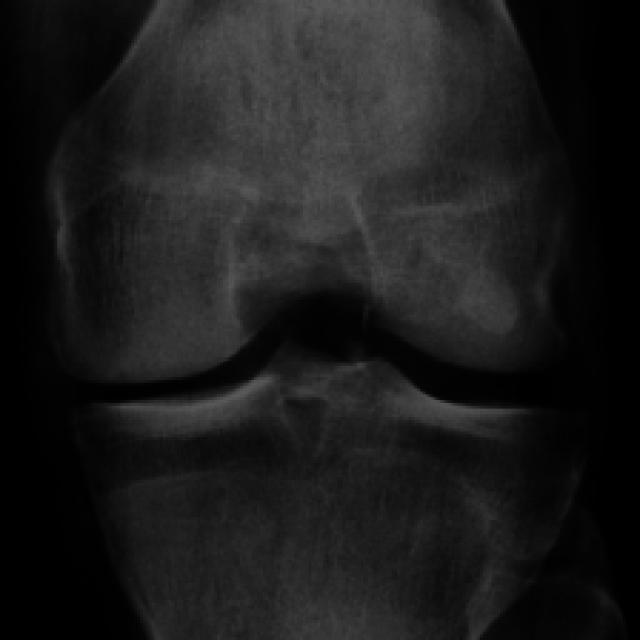femur: (43, 0, 573, 385)
tibia: (67, 340, 593, 640)
